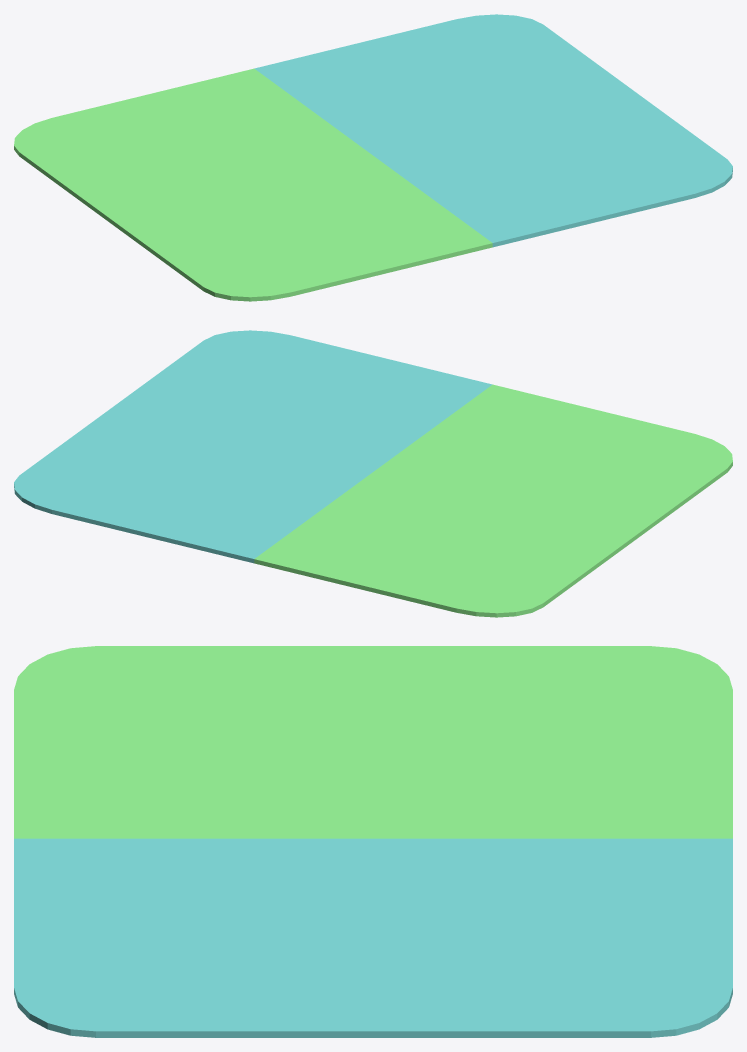
File: carpet.gltf
3 views of the same model, one above another, from view 1: azimuth 30°, elevation 25°; view 2: azimuth 150°, elevation 25°; view 3: azimuth 270°, elevation 25° (orthographic). The views are drawn at different scales.
Parts seen in each view (by area): view 1: carpet; view 2: carpet; view 3: carpet.
Part boxes in pixels (x1,y1,x2,y2): carpet: (14, 14, 732, 301); carpet: (14, 330, 732, 617); carpet: (14, 646, 732, 1037).
Bounding box in the file's own units: 2.54 × 0.02 × 2.
